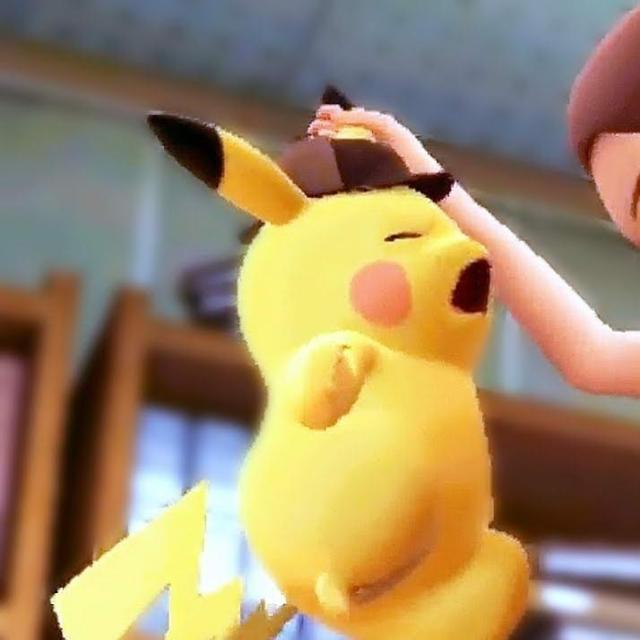pikachu: (51, 84, 537, 640)
